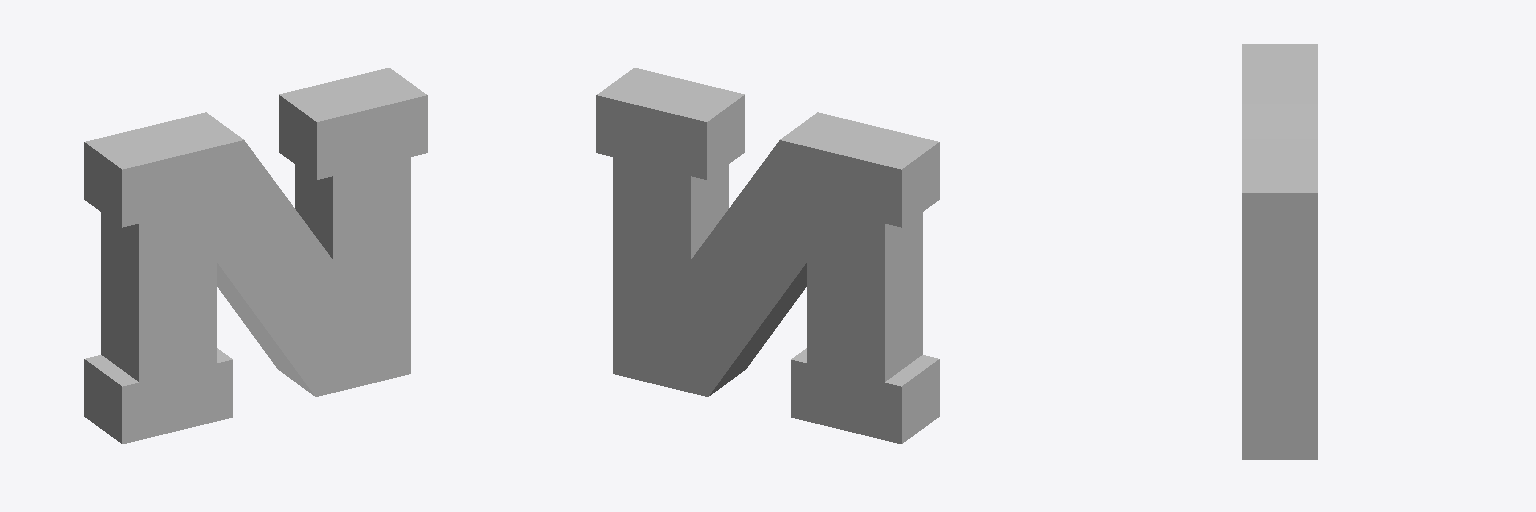
3 renders of one model, left to right at view 1: azimuth 30°, elevation 25°; view 2: azimuth 150°, elevation 25°; view 3: azimuth 270°, elevation 25°, orthographic.
Parts seen in each view (by area): view 1: text: ABCDEFGHIJKLMNOPQRSTUVWXYZ[number redacted]; view 2: text: ABCDEFGHIJKLMNOPQRSTUVWXYZ[number redacted]; view 3: text: ABCDEFGHIJKLMNOPQRSTUVWXYZ[number redacted].
Boxes of the visible parts, x1=… form: text: ABCDEFGHIJKLMNOPQRSTUVWXYZ[number redacted]: x1=84, y1=68, x2=427, y2=443; text: ABCDEFGHIJKLMNOPQRSTUVWXYZ[number redacted]: x1=596, y1=68, x2=939, y2=443; text: ABCDEFGHIJKLMNOPQRSTUVWXYZ[number redacted]: x1=1242, y1=44, x2=1317, y2=459.
Size of the model in its own units: 116 by 100 by 25.